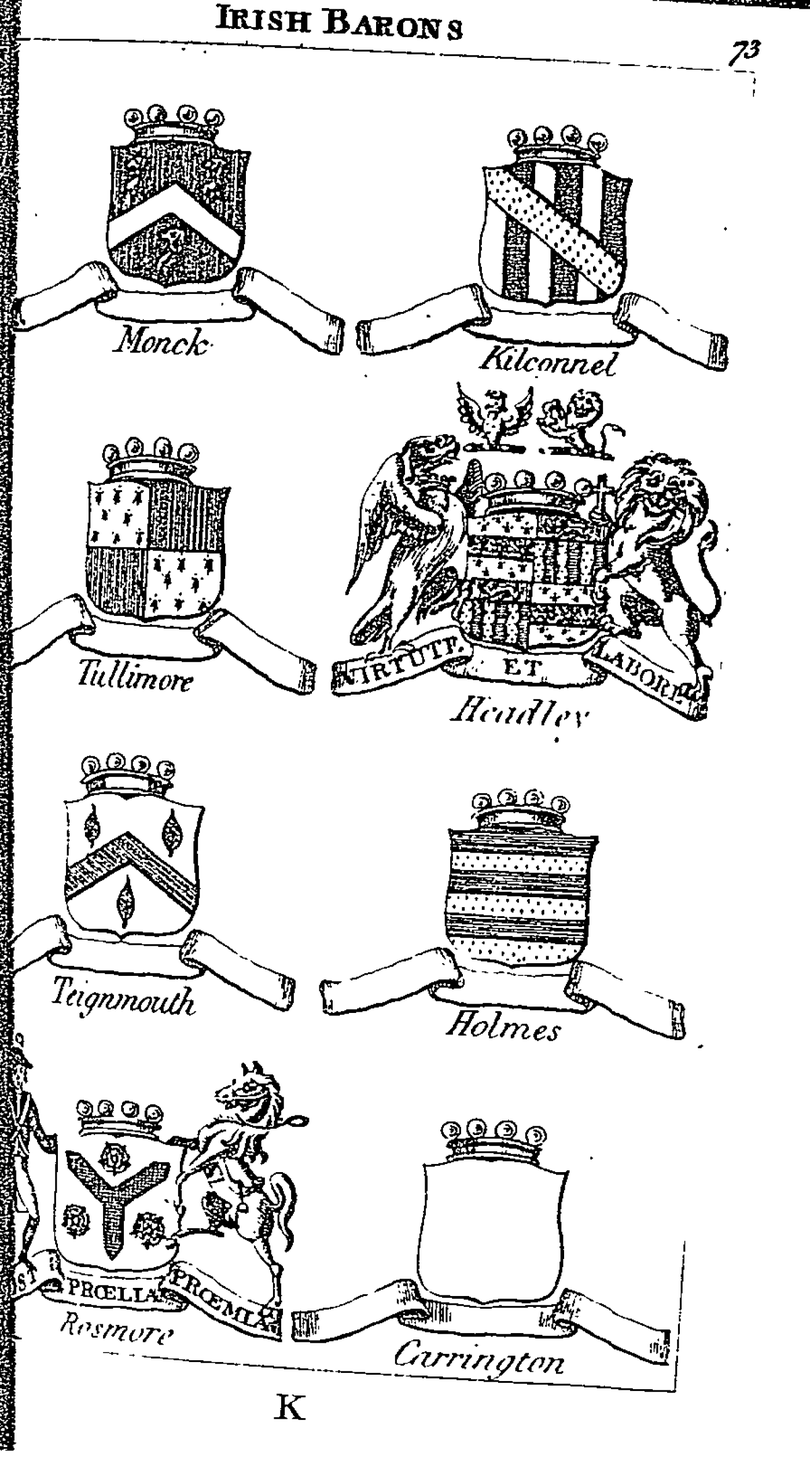coat_of_arms: (331, 376, 731, 734), (308, 755, 699, 1047), (300, 1081, 678, 1382), (359, 91, 736, 386), (21, 85, 352, 376), (12, 417, 318, 711), (13, 1039, 289, 1361), (13, 739, 303, 1033)
